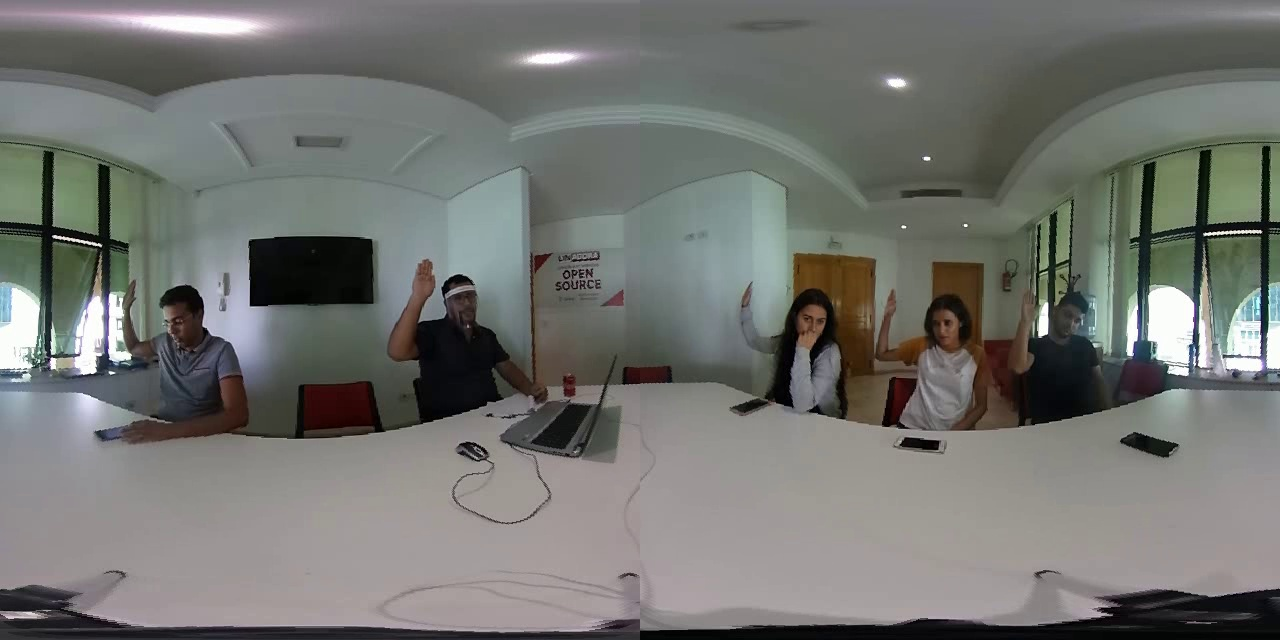person: (89, 259, 260, 441), (376, 250, 551, 404), (857, 277, 997, 428), (715, 264, 846, 424), (998, 270, 1126, 419)
voting: (384, 257, 438, 366), (1005, 282, 1046, 383), (729, 282, 781, 357), (117, 274, 155, 360), (871, 286, 906, 367)
